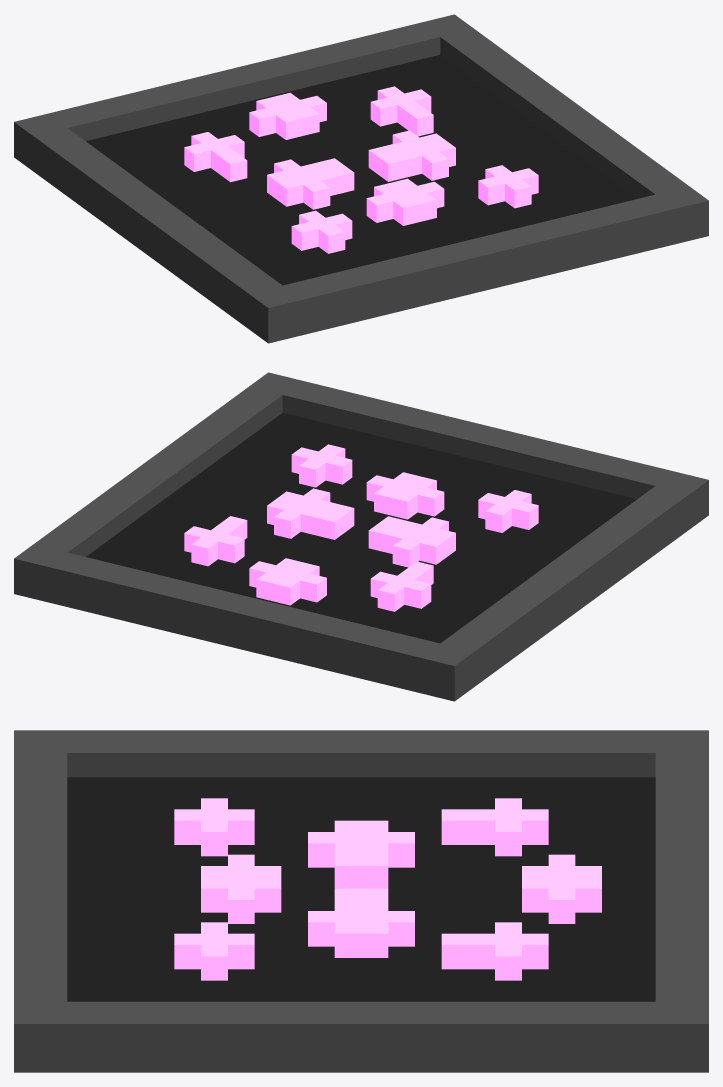
File: trap_STARS_VIOLET.glb
The picture shows the model from 3 angles, top to bottom: view 1: azimuth 30°, elevation 25°; view 2: azimuth 150°, elevation 25°; view 3: azimuth 270°, elevation 25°; orthographic projection. The views are drawn at different scales.
Visible parts, largest first — view 1: item_TRAP_STARS_VIOLET; view 2: item_TRAP_STARS_VIOLET; view 3: item_TRAP_STARS_VIOLET.
Boxes of the visible parts, left/top/right/bottom form: item_TRAP_STARS_VIOLET: left=14, top=14, right=708, bottom=343; item_TRAP_STARS_VIOLET: left=14, top=372, right=708, bottom=701; item_TRAP_STARS_VIOLET: left=14, top=730, right=708, bottom=1072.
Size of the model in its own units: 0.5909 by 0.0455 by 0.5909.
1 material, 1 textured.
